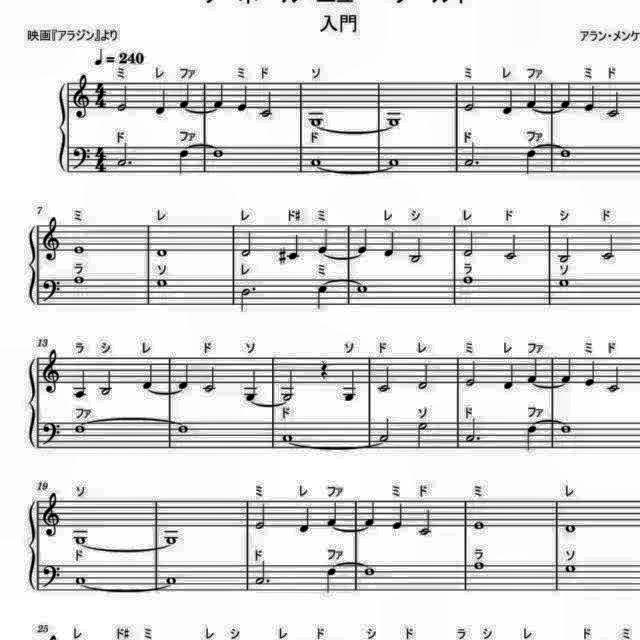Bass-clef: (40, 418, 64, 448), (40, 276, 64, 304), (40, 561, 64, 589), (70, 144, 92, 172)
Diez: (276, 246, 288, 266)
Full-note: (384, 112, 404, 128), (162, 530, 182, 546), (70, 531, 90, 545), (173, 420, 190, 436), (154, 245, 172, 259), (69, 243, 87, 257), (307, 113, 325, 127), (163, 572, 181, 586), (68, 274, 88, 286), (359, 564, 376, 578), (562, 521, 578, 535), (470, 519, 486, 533), (558, 145, 574, 159), (210, 145, 226, 159), (470, 559, 486, 573), (354, 281, 370, 295), (556, 276, 572, 290), (280, 431, 296, 445), (308, 156, 324, 170), (155, 276, 171, 290), (72, 572, 88, 586), (72, 422, 88, 436), (386, 157, 402, 170), (558, 424, 574, 436), (562, 562, 578, 574), (460, 274, 476, 286)
Half-dot: (236, 282, 260, 314), (117, 140, 137, 170), (463, 416, 481, 444), (461, 141, 479, 169)
Half-note: (278, 366, 298, 404), (598, 232, 618, 264), (252, 558, 272, 588), (200, 365, 220, 395), (501, 232, 519, 264), (417, 507, 435, 538), (607, 365, 625, 395), (555, 233, 573, 263), (377, 363, 395, 393), (408, 235, 426, 265), (462, 82, 478, 114), (461, 228, 477, 260), (604, 90, 622, 118), (259, 90, 277, 118), (416, 361, 432, 392), (378, 414, 394, 444), (114, 84, 130, 114), (253, 503, 269, 533), (240, 229, 256, 259), (414, 421, 430, 451), (98, 366, 114, 396), (466, 357, 482, 387)
Quarter-note: (340, 368, 360, 404), (70, 367, 90, 401), (240, 368, 260, 400), (236, 84, 252, 116), (152, 86, 168, 118), (296, 504, 312, 536), (322, 564, 338, 596), (390, 501, 406, 532), (286, 231, 302, 261), (584, 357, 600, 387), (176, 362, 192, 392), (380, 228, 396, 258), (500, 360, 516, 390), (558, 355, 574, 385), (362, 499, 378, 529), (140, 362, 156, 392), (499, 87, 515, 117), (526, 80, 542, 110), (354, 226, 370, 256), (524, 425, 540, 455), (324, 499, 340, 528), (176, 147, 192, 176), (315, 228, 331, 256), (558, 82, 574, 110), (177, 80, 193, 108), (584, 84, 598, 116), (314, 284, 330, 312), (526, 355, 540, 385), (212, 81, 226, 111), (524, 147, 538, 176)
Quarter-rest: (317, 356, 331, 379)
Treble-clef: (42, 489, 66, 538), (42, 346, 66, 394), (42, 214, 66, 262), (71, 72, 93, 122)
